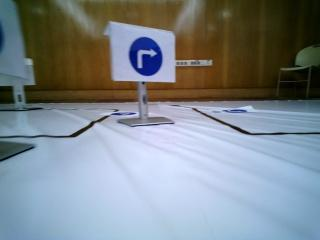right: (113, 25, 173, 83)
